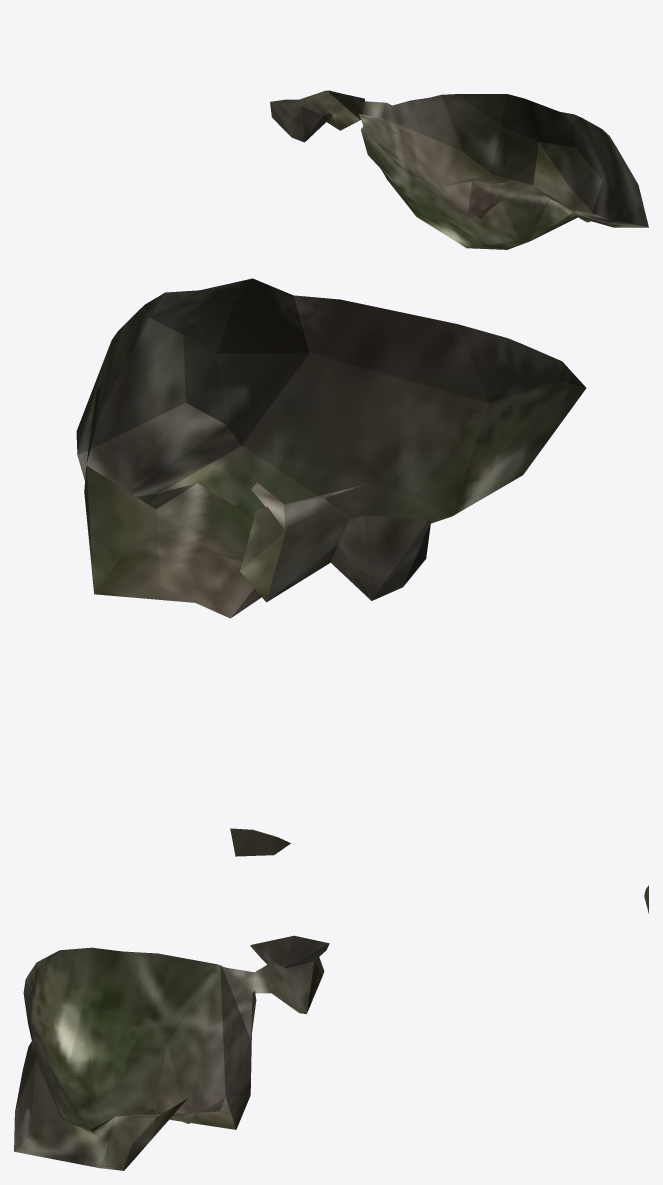
3 renders of one model, top to bottom at view 1: azimuth 30°, elevation 25°; view 2: azimuth 150°, elevation 25°; view 3: azimuth 270°, elevation 25°, orthographic. The views are drawn at different scales.
Size of the model in its own units: 2.12 by 0.5887 by 3.07.
Materials: 1 (1 with a texture image).
